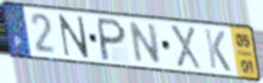2: (30, 12, 58, 56)
K: (203, 27, 233, 74)
N: (57, 13, 91, 60), (128, 20, 162, 66)
P: (97, 16, 128, 63)
X: (168, 23, 204, 72)
